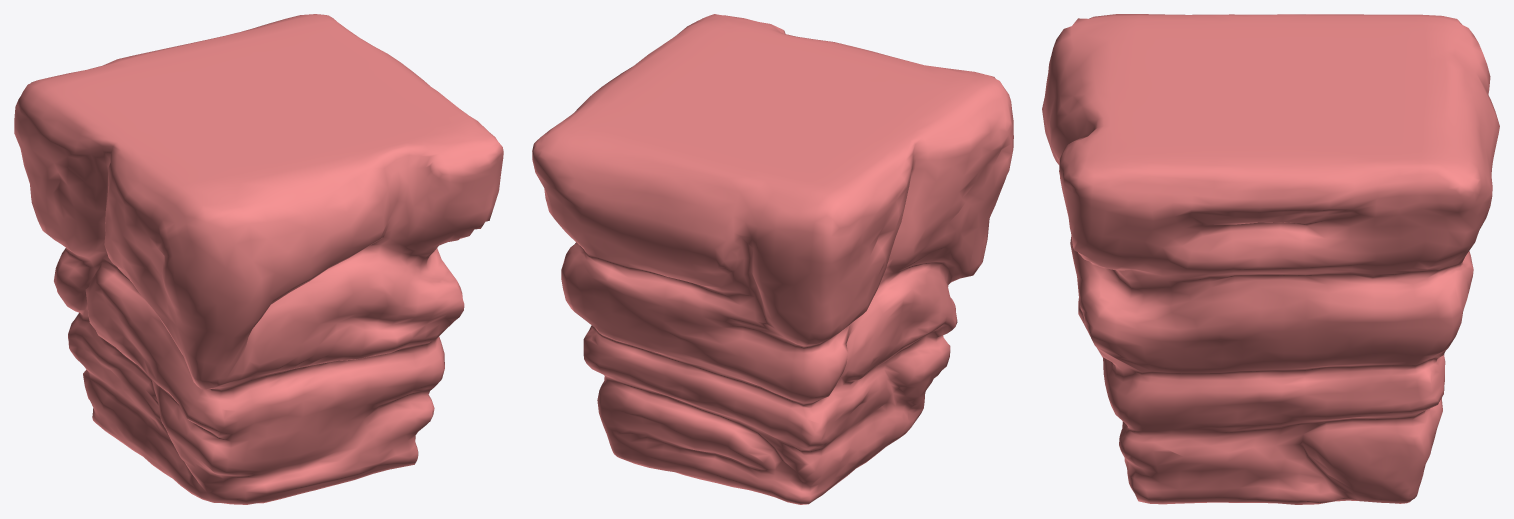
Rendered from Rock16.fbx.
The picture shows the model from 3 angles, left to right: view 1: azimuth 30°, elevation 25°; view 2: azimuth 150°, elevation 25°; view 3: azimuth 270°, elevation 25°; orthographic projection. The views are drawn at different scales.
Parts seen in each view (by area): view 1: PM3D_Cube3D_1; view 2: PM3D_Cube3D_1; view 3: PM3D_Cube3D_1.
Part boxes in pixels (x1,y1,x2,y2): PM3D_Cube3D_1: (14, 14, 503, 504); PM3D_Cube3D_1: (532, 14, 1013, 504); PM3D_Cube3D_1: (1042, 14, 1499, 504).
Size of the model in its own units: 4.1 by 3.96 by 4.48.
